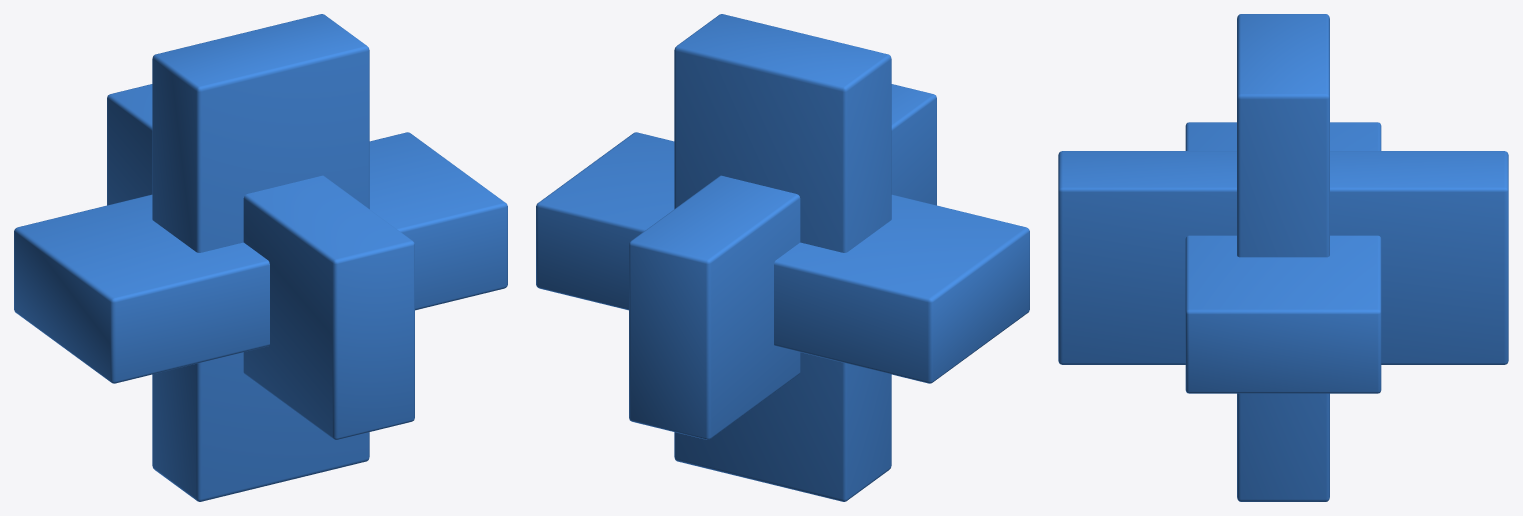
Rendered from Intersectbox.gltf.
3 views of the same model, side by side, from view 1: azimuth 30°, elevation 25°; view 2: azimuth 150°, elevation 25°; view 3: azimuth 270°, elevation 25° (orthographic).
Visible parts, largest first — view 1: Plane.015, Plane.001, Plane.013; view 2: Plane.015, Plane.001, Plane.013; view 3: Plane.013, Plane.015, Plane.001.
Boxes of the visible parts, x1,y1,x2,y2 form: Plane.015: (152, 14, 369, 501); Plane.001: (14, 132, 507, 383); Plane.013: (107, 84, 414, 439); Plane.015: (674, 14, 891, 501); Plane.001: (536, 132, 1029, 383); Plane.013: (629, 84, 936, 439); Plane.013: (1058, 151, 1508, 364); Plane.015: (1237, 14, 1329, 501); Plane.001: (1185, 122, 1381, 393).
Size of the model in its own units: 2.51 by 2.51 by 2.51.
